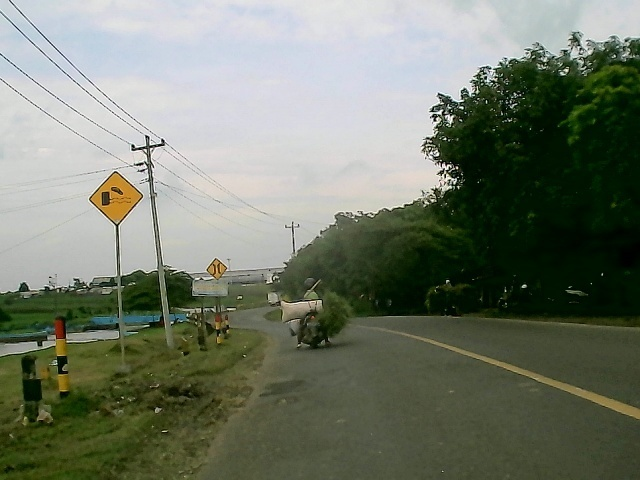Jembatan: (206, 256, 229, 280)
Peringatan tepi air: (88, 169, 144, 226)
